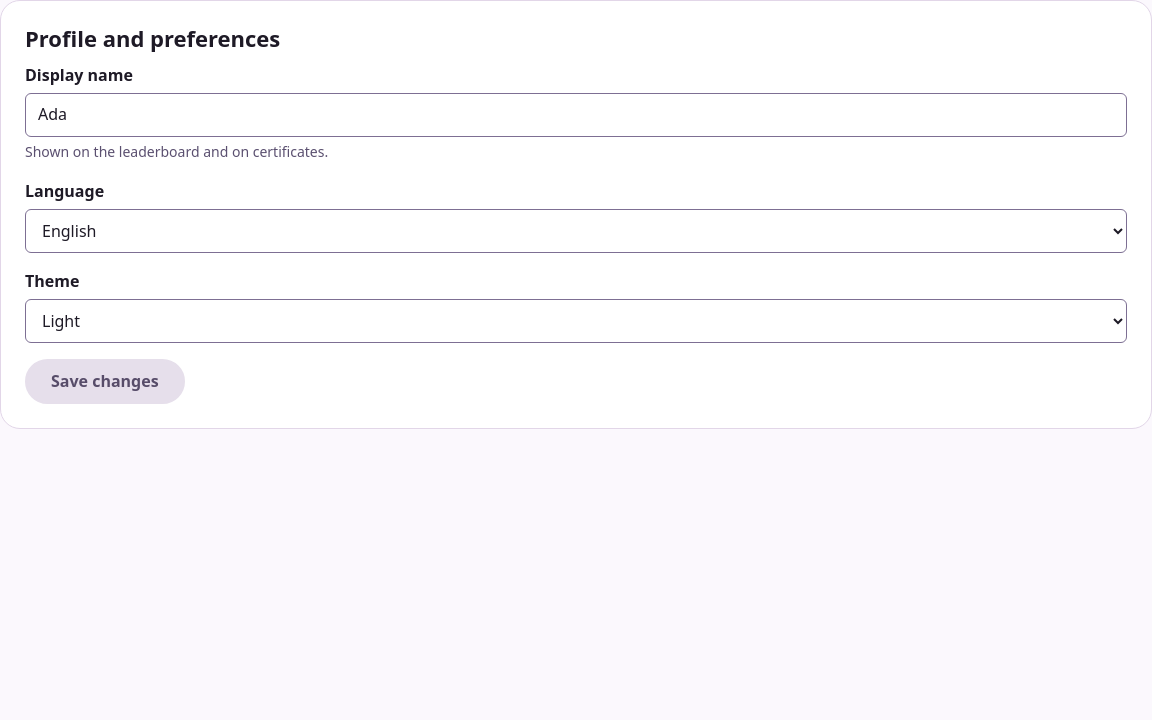
ProfileForm › saves only what changed
Expected: the button "Save changes" is disabled, x1=25 y1=359 x2=185 y2=404
Replace the text in the field labelled "Display name" with "Ada L." at (576,115), box x1=25 y1=93 x2=1127 y2=137
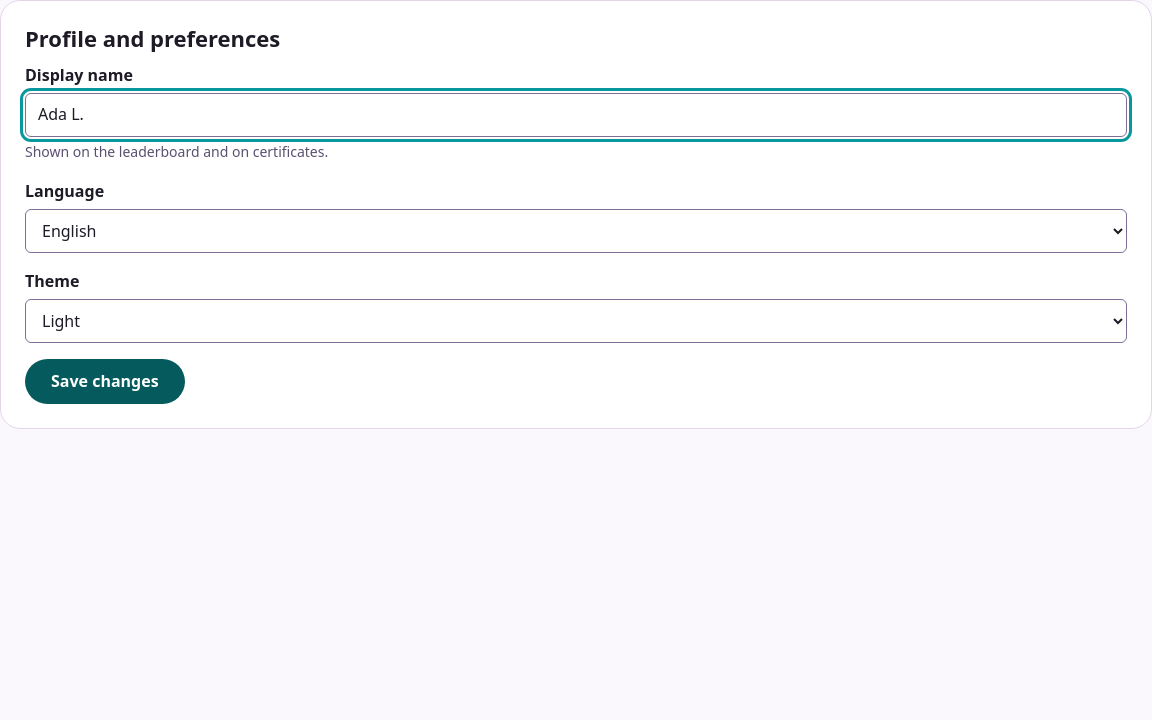
Click the button "Save changes" at (105,381), box x1=25 y1=359 x2=185 y2=404
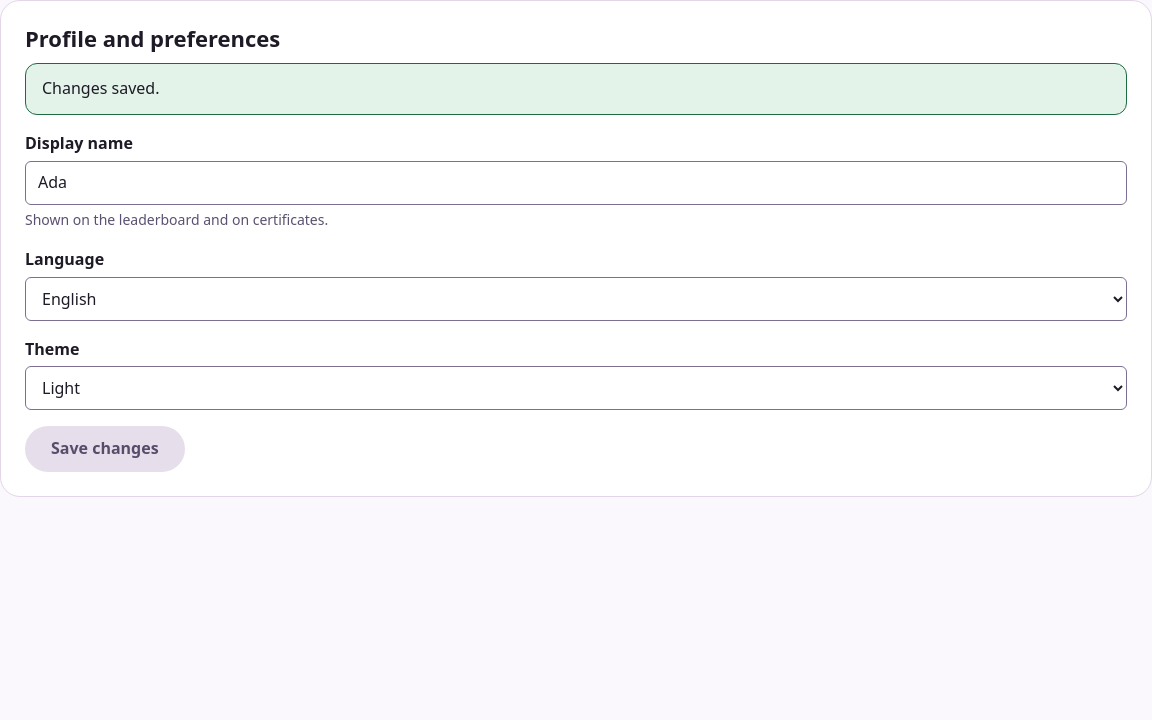
Now the text "Changes saved." is shown, box x1=25 y1=63 x2=1127 y2=115
